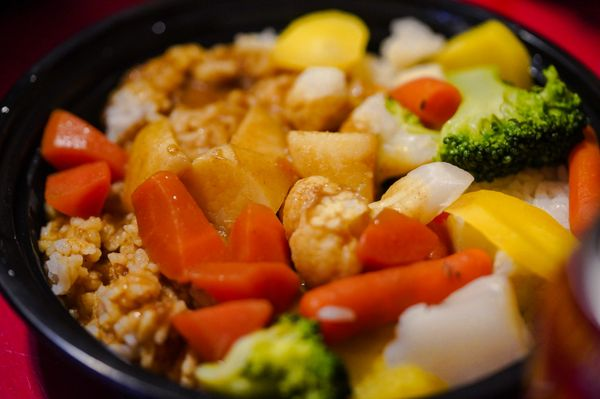curry: (438, 59, 586, 182), (190, 313, 350, 397)
sushi: (1, 12, 552, 397)
